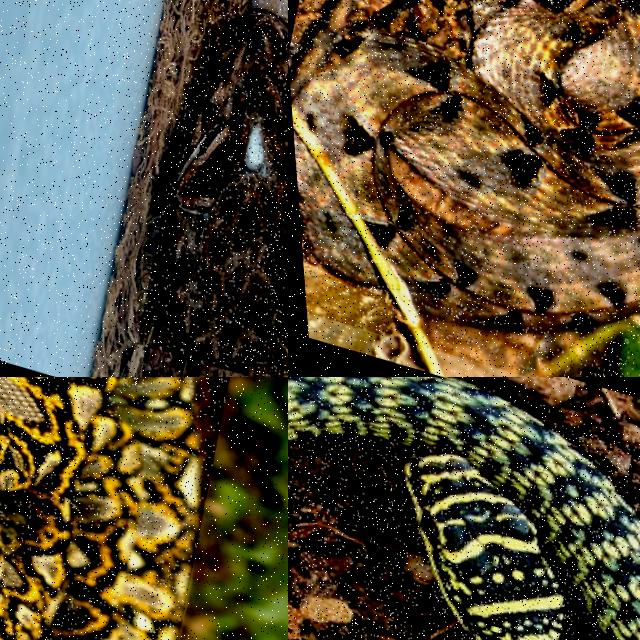Calloselasma rhodostoma: (294, 0, 639, 332), (163, 10, 287, 366)
Chrysopelea ornata: (288, 377, 639, 639)
Malayopython reticulatus: (0, 377, 199, 639)
snake: (294, 0, 639, 332), (288, 377, 639, 639), (0, 377, 199, 639), (163, 10, 287, 366)
